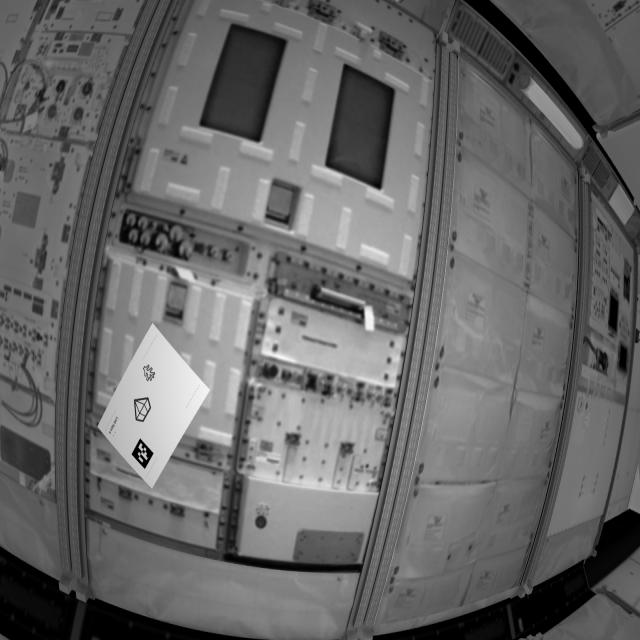coral: (137, 356, 164, 390)
diamond: (132, 393, 155, 425)
